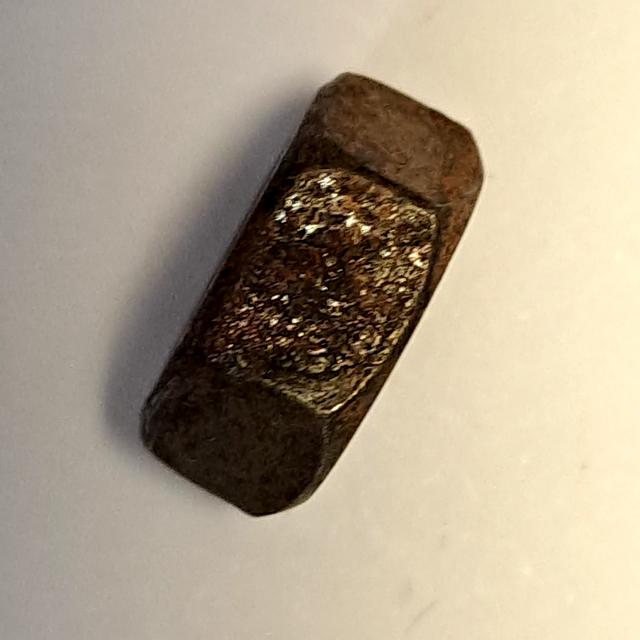Side_Rust: (119, 62, 496, 533)
